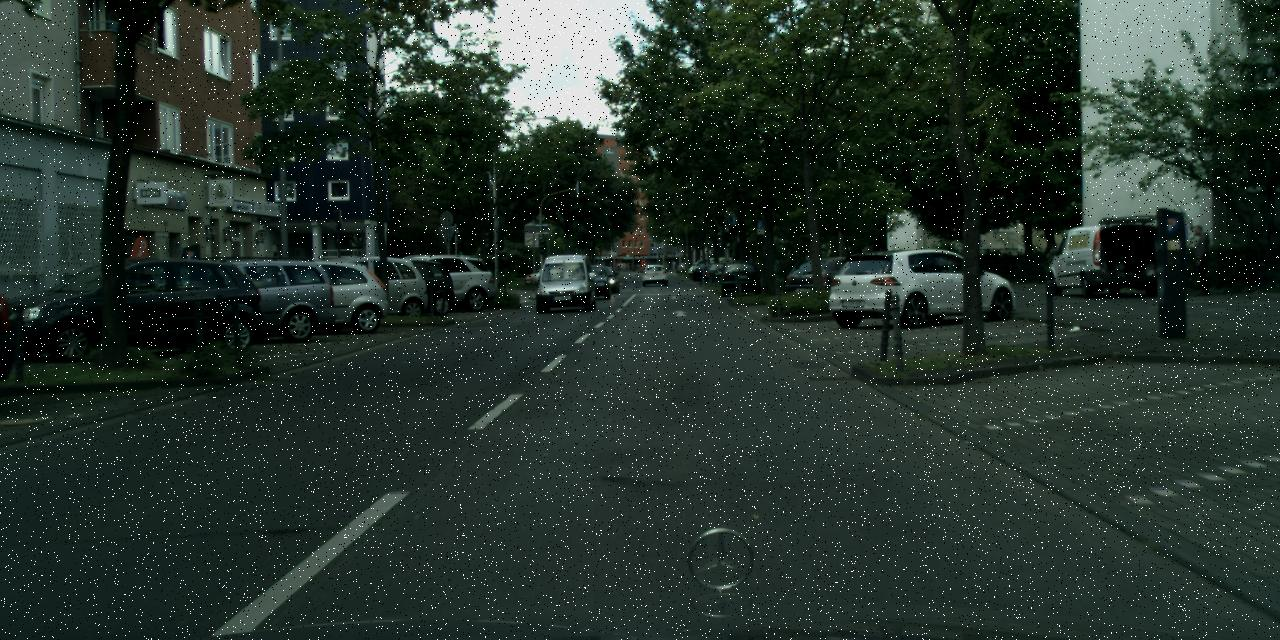ped: (1188, 224, 1216, 294)
